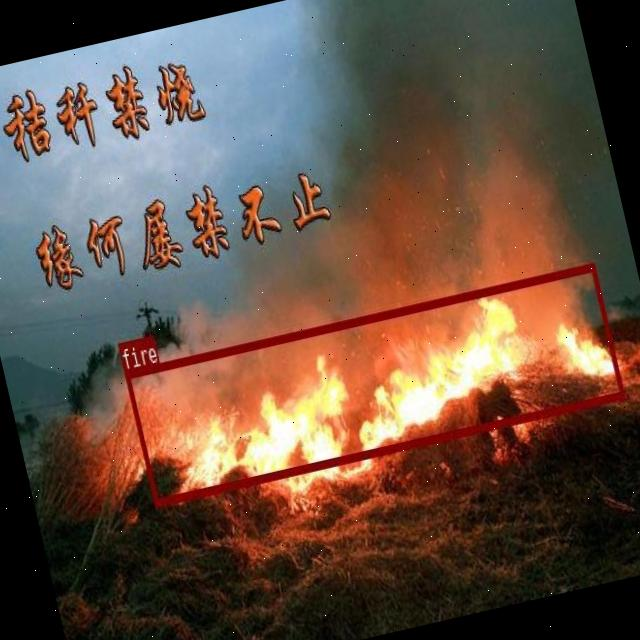fire: (123, 263, 624, 506)
